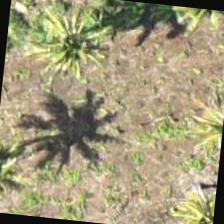Kelapa_Sawit: (30, 0, 130, 88), (171, 71, 223, 167), (163, 165, 218, 223)
